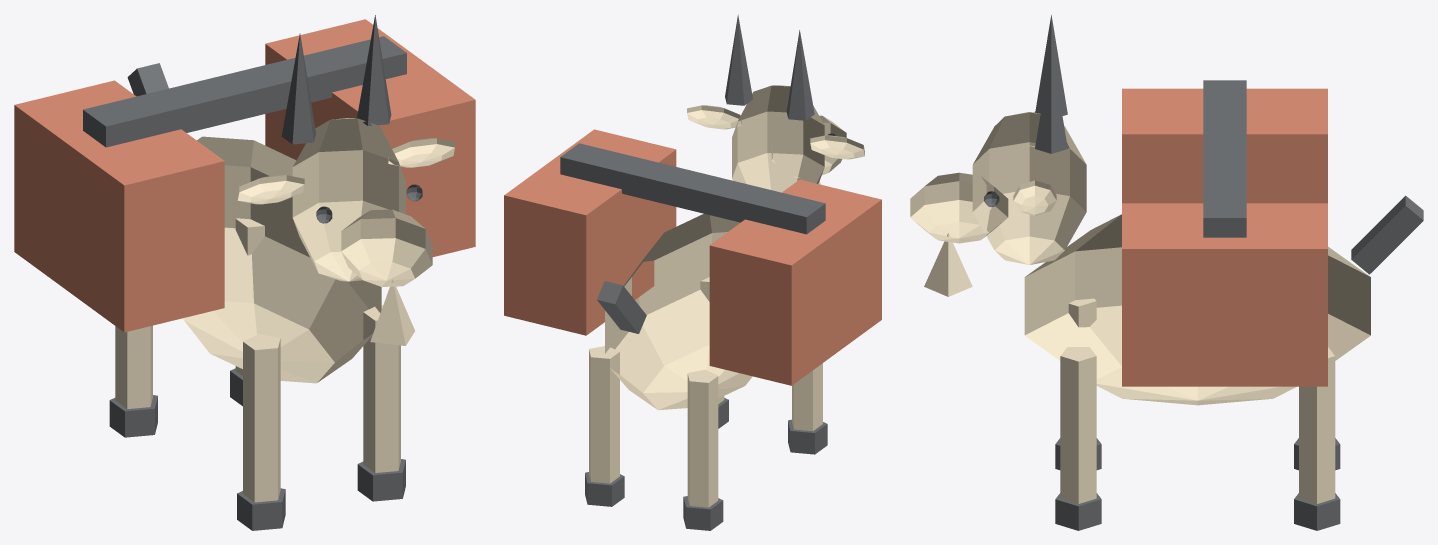
File: frontier-pack-goat__130.glb
3 renders of one model, left to right at view 1: azimuth 30°, elevation 25°; view 2: azimuth 150°, elevation 25°; view 3: azimuth 270°, elevation 25°, orthographic. The views are drawn at different scales.
Parts seen in each view (by area): view 1: frontier-post-pack-goat; view 2: frontier-post-pack-goat; view 3: frontier-post-pack-goat.
Boxes of the visible parts, x1,y1,x2,y2 form: frontier-post-pack-goat: (14,15,475,530); frontier-post-pack-goat: (504,14,881,530); frontier-post-pack-goat: (910,15,1423,530).
Size of the model in its own units: 0.7 by 0.94 by 0.947.
